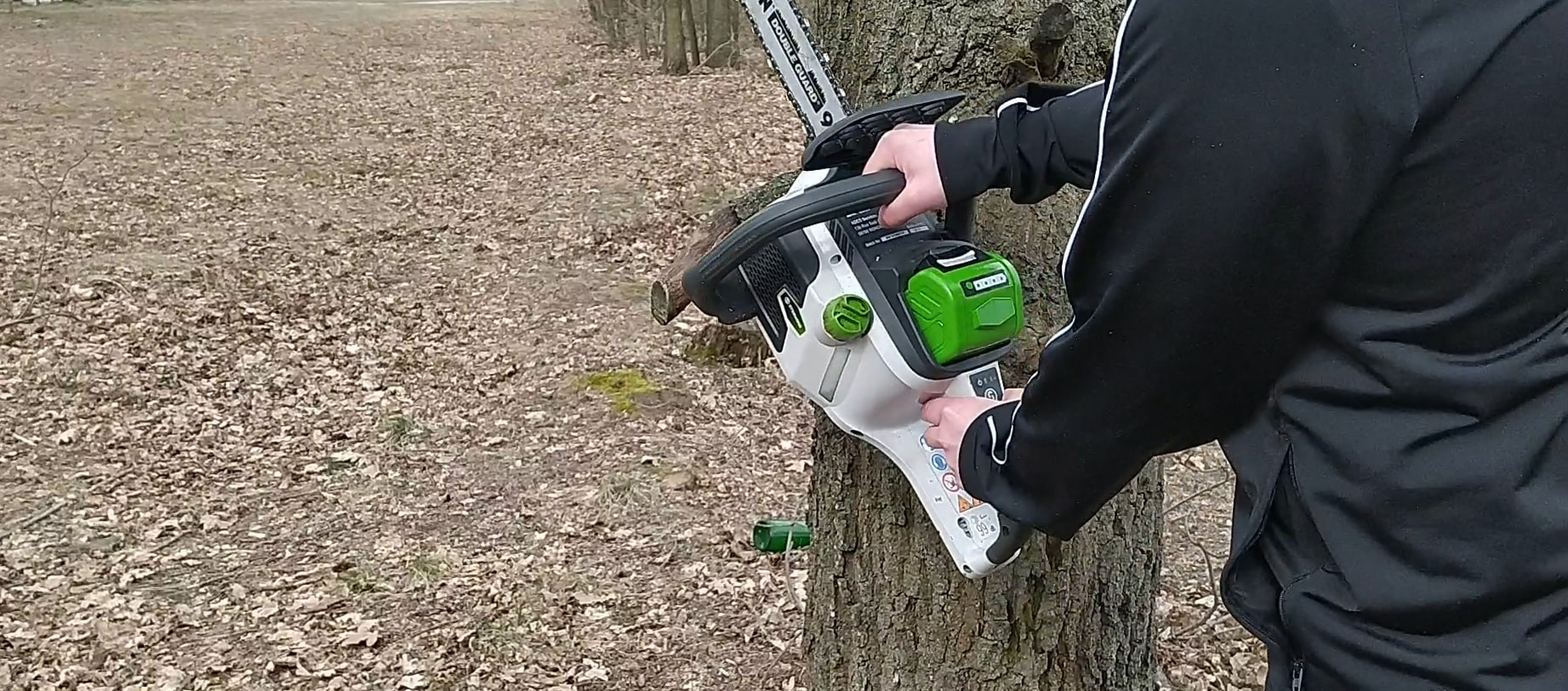chainsaw: (676, 3, 1006, 582)
